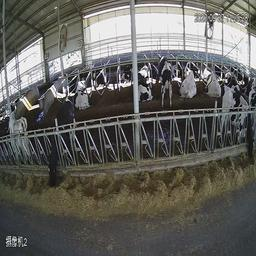cow: (45, 89, 88, 202), (217, 76, 253, 166), (5, 108, 33, 161), (158, 54, 176, 112), (178, 63, 200, 107), (71, 71, 94, 111), (137, 57, 156, 105), (201, 62, 219, 99), (116, 54, 133, 88)
